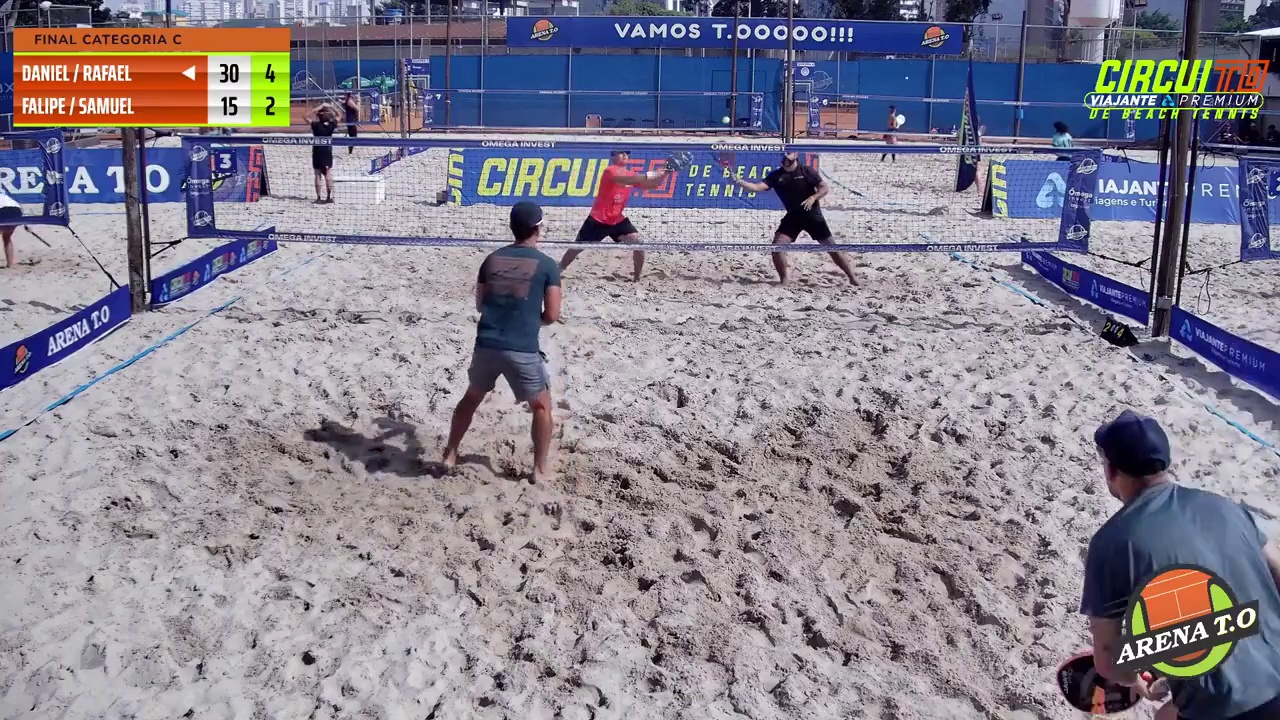court_line: (638, 0, 807, 470)
